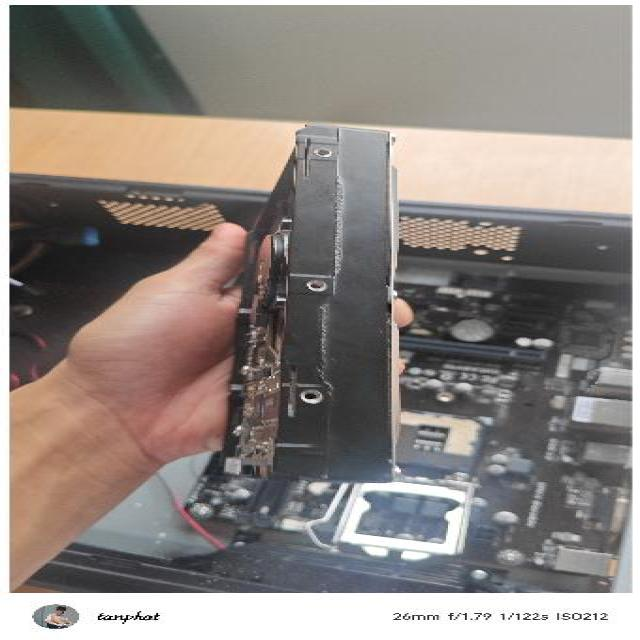DISK: (212, 118, 420, 490)
